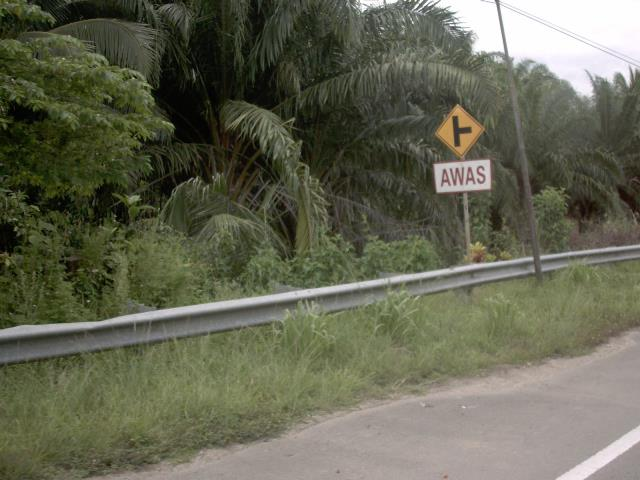traffic_sign: (428, 97, 493, 162)
